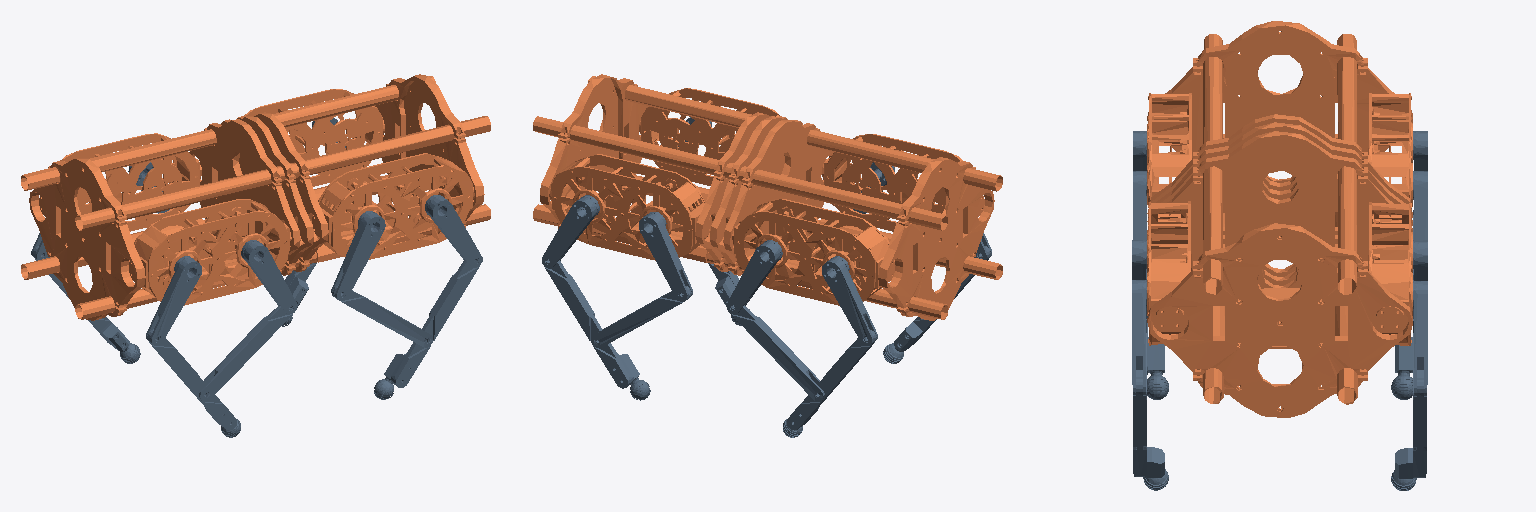
URDF robot description (quadson):
<robot name="quadson" version="1.0">
  <joint name="bl_joint0" type="revolute">
    <limit lower="-3.14000" upper="3.14000" effort="0.00000" velocity="0.00000"/>
    <origin rpy="0.00000 1.57080 0.00000" xyz="-0.20768 0.09541 0.00215"/>
    <parent link="base_link"/>
    <child link="bl_link0"/>
    <axis xyz="0.00000 0.00000 1.00000"/>
  </joint>
  <joint name="bl_joint1" type="revolute">
    <limit lower="-3.14000" upper="3.14000" effort="0.00000" velocity="0.00000"/>
    <origin rpy="-1.57080 -1.57080 0.00000" xyz="0.00040 0.01862 0.05458"/>
    <parent link="bl_link0"/>
    <child link="bl_link1"/>
    <axis xyz="0.00000 0.00000 1.00000"/>
  </joint>
  <joint name="bl_joint2" type="revolute">
    <limit lower="-3.14000" upper="3.14000" effort="0.00000" velocity="0.00000"/>
    <origin rpy="-0.00000 -0.00000 -0.00000" xyz="-0.04179 0.06838 0.00778"/>
    <parent link="bl_link1"/>
    <child link="bl_link2"/>
    <axis xyz="0.00000 0.00000 1.00000"/>
  </joint>
  <joint name="bl_joint3" type="revolute">
    <limit lower="-3.14000" upper="3.14000" effort="0.00000" velocity="0.00000"/>
    <origin rpy="-0.00000 0.00000 -0.00000" xyz="0.05995 0.08004 -0.00055"/>
    <parent link="bl_link2"/>
    <child link="bl_link3"/>
    <axis xyz="0.00000 0.00000 1.00000"/>
  </joint>
  <joint name="bl_joint4" type="revolute">
    <limit lower="-3.14000" upper="3.14000" effort="0.00000" velocity="0.00000"/>
    <origin rpy="-0.00000 0.00000 0.00000" xyz="0.10334 -0.07887 0.00054"/>
    <parent link="bl_link3"/>
    <child link="bl_link4"/>
    <axis xyz="0.00000 0.00000 1.00000"/>
  </joint>
  <joint name="br_joint0" type="revolute">
    <limit lower="-3.14000" upper="3.14000" effort="0.00000" velocity="0.00000"/>
    <origin rpy="0.00000 1.57080 0.00000" xyz="-0.20768 -0.09459 0.00215"/>
    <parent link="base_link"/>
    <child link="br_link0"/>
    <axis xyz="0.00000 0.00000 1.00000"/>
  </joint>
  <joint name="br_joint1" type="revolute">
    <limit lower="-3.14000" upper="3.14000" effort="0.00000" velocity="0.00000"/>
    <origin rpy="1.57080 -1.57080 -0.00000" xyz="0.00040 -0.01862 0.05458"/>
    <parent link="br_link0"/>
    <child link="br_link1"/>
    <axis xyz="0.00000 0.00000 1.00000"/>
  </joint>
  <joint name="br_joint2" type="revolute">
    <limit lower="-3.14000" upper="3.14000" effort="0.00000" velocity="0.00000"/>
    <origin rpy="0.00000 0.00000 -0.00000" xyz="-0.04173 -0.06842 0.00768"/>
    <parent link="br_link1"/>
    <child link="br_link2"/>
    <axis xyz="0.00000 0.00000 1.00000"/>
  </joint>
  <joint name="br_joint3" type="revolute">
    <limit lower="-3.14000" upper="3.14000" effort="0.00000" velocity="0.00000"/>
    <origin rpy="0.00000 0.00000 -0.00000" xyz="0.05988 -0.08000 -0.00045"/>
    <parent link="br_link2"/>
    <child link="br_link3"/>
    <axis xyz="0.00000 0.00000 1.00000"/>
  </joint>
  <joint name="br_joint4" type="revolute">
    <limit lower="-3.14000" upper="3.14000" effort="0.00000" velocity="0.00000"/>
    <origin rpy="0.00000 0.00000 -0.00000" xyz="0.10341 0.07891 0.00044"/>
    <parent link="br_link3"/>
    <child link="br_link4"/>
    <axis xyz="0.00000 0.00000 1.00000"/>
  </joint>
  <joint name="fl_joint0" type="revolute">
    <limit lower="-3.14000" upper="3.14000" effort="0.00000" velocity="0.00000"/>
    <origin rpy="0.00000 -1.57080 0.00000" xyz="0.20740 0.09541 0.00215"/>
    <parent link="base_link"/>
    <child link="fl_link0"/>
    <axis xyz="0.00000 0.00000 1.00000"/>
  </joint>
  <joint name="fl_joint1" type="revolute">
    <limit lower="-3.14000" upper="3.14000" effort="0.00000" velocity="0.00000"/>
    <origin rpy="-1.57080 1.57080 -0.00000" xyz="-0.00040 0.01862 0.05430"/>
    <parent link="fl_link0"/>
    <child link="fl_link1"/>
    <axis xyz="0.00000 0.00000 1.00000"/>
  </joint>
  <joint name="fl_joint2" type="revolute">
    <limit lower="-3.14000" upper="3.14000" effort="0.00000" velocity="0.00000"/>
    <origin rpy="-0.00000 -0.00000 -0.00000" xyz="0.04173 0.06842 0.00768"/>
    <parent link="fl_link1"/>
    <child link="fl_link2"/>
    <axis xyz="0.00000 0.00000 1.00000"/>
  </joint>
  <joint name="fl_joint3" type="revolute">
    <limit lower="-3.14000" upper="3.14000" effort="0.00000" velocity="0.00000"/>
    <origin rpy="-0.00000 0.00000 -0.00000" xyz="-0.05988 0.08000 -0.00045"/>
    <parent link="fl_link2"/>
    <child link="fl_link3"/>
    <axis xyz="0.00000 0.00000 1.00000"/>
  </joint>
  <joint name="fl_joint4" type="revolute">
    <limit lower="-3.14000" upper="3.14000" effort="0.00000" velocity="0.00000"/>
    <origin rpy="-0.00000 -0.00000 0.00000" xyz="-0.10334 -0.07887 0.00054"/>
    <parent link="fl_link3"/>
    <child link="fl_link4"/>
    <axis xyz="0.00000 0.00000 1.00000"/>
  </joint>
  <joint name="fl_joint5" type="revolute">
    <limit lower="-3.14000" upper="3.14000" effort="0.00000" velocity="0.00000"/>
    <origin rpy="-1.57080 1.57080 0.00000" xyz="-0.00040 0.01862 0.13630"/>
    <parent link="fl_link0"/>
    <child link="fl_link4.dummy"/>
    <axis xyz="0.00000 0.00000 1.00000"/>
  </joint>
  <joint name="fr_joint0" type="revolute">
    <limit lower="-3.14000" upper="3.14000" effort="0.00000" velocity="0.00000"/>
    <origin rpy="0.00000 -1.57080 0.00000" xyz="0.20740 -0.09459 0.00215"/>
    <parent link="base_link"/>
    <child link="fr_link0"/>
    <axis xyz="0.00000 0.00000 1.00000"/>
  </joint>
  <joint name="fr_joint1" type="revolute">
    <limit lower="-3.14000" upper="3.14000" effort="0.00000" velocity="0.00000"/>
    <origin rpy="1.57080 1.57080 0.00000" xyz="0.00039 -0.01915 0.05430"/>
    <parent link="fr_link0"/>
    <child link="fr_link1"/>
    <axis xyz="0.00000 0.00000 1.00000"/>
  </joint>
  <joint name="fr_joint2" type="revolute">
    <limit lower="-3.14000" upper="3.14000" effort="0.00000" velocity="0.00000"/>
    <origin rpy="0.00000 0.00000 0.00000" xyz="0.04179 -0.06838 0.00778"/>
    <parent link="fr_link1"/>
    <child link="fr_link2"/>
    <axis xyz="0.00000 0.00000 1.00000"/>
  </joint>
  <joint name="fr_joint3" type="revolute">
    <limit lower="-3.14000" upper="3.14000" effort="0.00000" velocity="0.00000"/>
    <origin rpy="0.00000 0.00000 -0.00000" xyz="-0.05995 -0.08004 -0.00055"/>
    <parent link="fr_link2"/>
    <child link="fr_link3"/>
    <axis xyz="0.00000 0.00000 1.00000"/>
  </joint>
  <joint name="fr_joint4" type="revolute">
    <limit lower="-3.14000" upper="3.14000" effort="0.00000" velocity="0.00000"/>
    <origin rpy="0.00000 0.00000 -0.00000" xyz="-0.10341 0.07891 0.00044"/>
    <parent link="fr_link3"/>
    <child link="fr_link4"/>
    <axis xyz="0.00000 0.00000 1.00000"/>
  </joint>
  <link name="base_link">
    <inertial>
      <inertia ixx="0.00472" ixy="0.00000" ixz="0.00000" iyy="0.02855" iyz="-0.00000" izz="0.02916"/>
      <origin rpy="0.00000 0.00000 0.00000" xyz="-0.00001 0.00040 -0.00279"/>
      <mass value="1.50000"/>
    </inertial>
    <visual name="base_link.visual">
      <origin rpy="0.00000 0.00000 0.00000" xyz="0.00000 0.00000 0.00000"/>
      <material name="Primary"/>
      <geometry>
        <mesh filename="../meshes/dae/base_link.dae" scale="1.00000 1.00000 1.00000"/>
      </geometry>
    </visual>
  </link>
  <link name="bl_link0">
    <inertial>
      <inertia ixx="0.00020" ixy="-0.00000" ixz="0.00001" iyy="0.00118" iyz="-0.00000" izz="0.00107"/>
      <origin rpy="0.00000 0.00000 0.00000" xyz="-0.00032 -0.00122 0.09509"/>
      <mass value="0.40000"/>
    </inertial>
    <visual name="bl_link0.visual">
      <origin rpy="-0.00000 -1.57080 0.00000" xyz="-0.00000 -0.00000 -0.00000"/>
      <material name="Primary"/>
      <geometry>
        <mesh filename="../meshes/dae/bl_link0.dae" scale="1.00000 1.00000 1.00000"/>
      </geometry>
    </visual>
  </link>
  <link name="bl_link1">
    <inertial>
      <inertia ixx="0.00012" ixy="0.00000" ixz="-0.00007" iyy="0.00016" iyz="0.00001" izz="0.00005"/>
      <origin rpy="0.00000 0.00000 0.00000" xyz="-0.01519 0.02472 0.00644"/>
      <mass value="0.20000"/>
    </inertial>
    <visual name="bl_link1.visual">
      <origin rpy="1.57080 0.00000 -0.00000" xyz="0.00000 0.00000 -0.00000"/>
      <material name="Grey"/>
      <geometry>
        <mesh filename="../meshes/dae/bl_link1.dae" scale="1.00000 1.00000 1.00000"/>
      </geometry>
    </visual>
  </link>
  <link name="bl_link2">
    <inertial>
      <inertia ixx="0.00062" ixy="0.00006" ixz="0.00045" iyy="0.00095" iyz="-0.00008" izz="0.00036"/>
      <origin rpy="0.00000 0.00000 0.00000" xyz="0.05980 0.08004 -0.00440"/>
      <mass value="0.20000"/>
    </inertial>
    <visual name="bl_link2.visual">
      <origin rpy="1.57080 0.00000 0.00000" xyz="-0.00000 0.00000 0.00000"/>
      <material name="Grey"/>
      <geometry>
        <mesh filename="../meshes/dae/bl_link2.dae" scale="1.00000 1.00000 1.00000"/>
      </geometry>
    </visual>
  </link>
  <link name="bl_link3">
    <inertial>
      <inertia ixx="0.00012" ixy="-0.00000" ixz="-0.00015" iyy="0.00031" iyz="-0.00000" izz="0.00020"/>
      <origin rpy="0.00000 0.00000 0.00000" xyz="0.05213 -0.03967 0.00027"/>
      <mass value="0.20000"/>
    </inertial>
    <visual name="bl_link3.visual">
      <origin rpy="1.57080 -0.00000 0.00000" xyz="0.00000 -0.00000 -0.00000"/>
      <material name="Grey"/>
      <geometry>
        <mesh filename="../meshes/dae/bl_link3.dae" scale="1.00000 1.00000 1.00000"/>
      </geometry>
    </visual>
  </link>
  <link name="bl_link4">
    <inertial>
      <inertia ixx="0.00012" ixy="-0.00000" ixz="0.00006" iyy="0.00016" iyz="0.00001" izz="0.00005"/>
      <origin rpy="0.00000 0.00000 0.00000" xyz="-0.02534 -0.04440 -0.00134"/>
      <mass value="0.20000"/>
    </inertial>
    <visual name="bl_link4.visual">
      <origin rpy="1.57080 -0.00000 0.00000" xyz="-0.03950 -0.06955 -0.00778"/>
      <material name="Grey"/>
      <geometry>
        <mesh filename="../meshes/dae/bl_link4.dae" scale="1.00000 1.00000 1.00000"/>
      </geometry>
    </visual>
  </link>
  <link name="br_link0">
    <inertial>
      <inertia ixx="0.00020" ixy="0.00000" ixz="0.00001" iyy="0.00118" iyz="0.00000" izz="0.00107"/>
      <origin rpy="0.00000 0.00000 0.00000" xyz="-0.00032 0.00122 0.09509"/>
      <mass value="0.40000"/>
    </inertial>
    <visual name="br_link0.visual">
      <origin rpy="-0.00000 -1.57080 0.00000" xyz="-0.00000 0.00000 -0.00000"/>
      <material name="Primary"/>
      <geometry>
        <mesh filename="../meshes/dae/br_link0.dae" scale="1.00000 1.00000 1.00000"/>
      </geometry>
    </visual>
  </link>
  <link name="br_link1">
    <inertial>
      <inertia ixx="0.00012" ixy="-0.00000" ixz="-0.00007" iyy="0.00016" iyz="-0.00001" izz="0.00005"/>
      <origin rpy="0.00000 0.00000 0.00000" xyz="-0.01519 -0.02472 0.00644"/>
      <mass value="0.20000"/>
    </inertial>
    <visual name="br_link1.visual">
      <origin rpy="-1.57080 0.00000 0.00000" xyz="0.00000 -0.00000 -0.00000"/>
      <material name="Grey"/>
      <geometry>
        <mesh filename="../meshes/dae/br_link1.dae" scale="1.00000 1.00000 1.00000"/>
      </geometry>
    </visual>
  </link>
  <link name="br_link2">
    <inertial>
      <inertia ixx="0.00062" ixy="-0.00006" ixz="0.00045" iyy="0.00095" iyz="0.00008" izz="0.00036"/>
      <origin rpy="0.00000 0.00000 0.00000" xyz="0.05973 -0.08000 -0.00430"/>
      <mass value="0.20000"/>
    </inertial>
    <visual name="br_link2.visual">
      <origin rpy="-1.57080 -0.00000 0.00000" xyz="0.00000 0.00000 -0.00000"/>
      <material name="Grey"/>
      <geometry>
        <mesh filename="../meshes/dae/br_link2.dae" scale="1.00000 1.00000 1.00000"/>
      </geometry>
    </visual>
  </link>
  <link name="br_link3">
    <inertial>
      <inertia ixx="0.00012" ixy="0.00000" ixz="-0.00015" iyy="0.00031" iyz="0.00000" izz="0.00020"/>
      <origin rpy="0.00000 0.00000 0.00000" xyz="0.05213 0.03967 0.00027"/>
      <mass value="0.20000"/>
    </inertial>
    <visual name="br_link3.visual">
      <origin rpy="-1.57080 -0.00000 0.00000" xyz="0.00000 0.00000 -0.00000"/>
      <material name="Grey"/>
      <geometry>
        <mesh filename="../meshes/dae/br_link3.dae" scale="1.00000 1.00000 1.00000"/>
      </geometry>
    </visual>
  </link>
  <link name="br_link4">
    <inertial>
      <inertia ixx="0.00012" ixy="0.00000" ixz="0.00006" iyy="0.00016" iyz="-0.00001" izz="0.00005"/>
      <origin rpy="0.00000 0.00000 0.00000" xyz="-0.02541 0.04436 -0.00125"/>
      <mass value="0.20000"/>
    </inertial>
    <visual name="br_link4.visual">
      <origin rpy="-1.57080 -0.00000 0.00000" xyz="-0.03957 0.06951 -0.00768"/>
      <material name="Grey"/>
      <geometry>
        <mesh filename="../meshes/dae/br_link4.dae" scale="1.00000 1.00000 1.00000"/>
      </geometry>
    </visual>
  </link>
  <link name="fl_link0">
    <inertial>
      <inertia ixx="0.00020" ixy="0.00000" ixz="-0.00001" iyy="0.00118" iyz="-0.00000" izz="0.00107"/>
      <origin rpy="0.00000 0.00000 0.00000" xyz="0.00032 -0.00122 0.09481"/>
      <mass value="0.40000"/>
    </inertial>
    <visual name="fl_link0.visual">
      <origin rpy="0.00000 1.57080 0.00000" xyz="-0.00000 -0.00000 0.00000"/>
      <material name="Primary"/>
      <geometry>
        <mesh filename="../meshes/dae/fl_link0.dae" scale="1.00000 1.00000 1.00000"/>
      </geometry>
    </visual>
  </link>
  <link name="fl_link1">
    <inertial>
      <inertia ixx="0.00012" ixy="-0.00000" ixz="0.00007" iyy="0.00016" iyz="0.00001" izz="0.00005"/>
      <origin rpy="0.00000 0.00000 0.00000" xyz="0.01519 0.02472 0.00644"/>
      <mass value="0.20000"/>
    </inertial>
    <visual name="fl_link1.visual">
      <origin rpy="1.57080 -0.00000 0.00000" xyz="0.00000 0.00000 -0.00000"/>
      <material name="Grey"/>
      <geometry>
        <mesh filename="../meshes/dae/fl_link1.dae" scale="1.00000 1.00000 1.00000"/>
      </geometry>
    </visual>
  </link>
  <link name="fl_link2">
    <inertial>
      <inertia ixx="0.00062" ixy="-0.00006" ixz="-0.00045" iyy="0.00095" iyz="-0.00008" izz="0.00036"/>
      <origin rpy="0.00000 0.00000 0.00000" xyz="-0.05973 0.08000 -0.00430"/>
      <mass value="0.20000"/>
    </inertial>
    <visual name="fl_link2.visual">
      <origin rpy="1.57080 0.00000 0.00000" xyz="-0.00000 0.00000 0.00000"/>
      <material name="Grey"/>
      <geometry>
        <mesh filename="../meshes/dae/fl_link2.dae" scale="1.00000 1.00000 1.00000"/>
      </geometry>
    </visual>
  </link>
  <link name="fl_link3">
    <inertial>
      <inertia ixx="0.00012" ixy="0.00000" ixz="0.00015" iyy="0.00031" iyz="-0.00000" izz="0.00020"/>
      <origin rpy="0.00000 0.00000 0.00000" xyz="-0.05213 -0.03967 0.00027"/>
      <mass value="0.20000"/>
    </inertial>
    <visual name="fl_link3.visual">
      <origin rpy="1.57080 -0.00000 -0.00000" xyz="-0.00000 -0.00000 -0.00000"/>
      <material name="Grey"/>
      <geometry>
        <mesh filename="../meshes/dae/fl_link3.dae" scale="1.00000 1.00000 1.00000"/>
      </geometry>
    </visual>
  </link>
  <link name="fl_link4">
    <inertial>
      <inertia ixx="0.00012" ixy="0.00000" ixz="-0.00006" iyy="0.00016" iyz="0.00001" izz="0.00005"/>
      <origin rpy="0.00000 0.00000 0.00000" xyz="0.02534 -0.04440 -0.00134"/>
      <mass value="0.20000"/>
    </inertial>
    <visual name="fl_link4.visual">
      <origin rpy="1.57080 -0.00000 -0.00000" xyz="0.03950 -0.06955 -0.00778"/>
      <material name="Grey"/>
      <geometry>
        <mesh filename="../meshes/dae/fl_link4.dae" scale="1.00000 1.00000 1.00000"/>
      </geometry>
    </visual>
  </link>
  <link name="fl_link4.dummy">
    <visual name="fl_link4.visual.dummy">
      <origin rpy="1.57080 0.00000 -0.00000" xyz="0.00000 -0.00000 -0.00000"/>
      <material name="Grey"/>
      <geometry>
        <mesh filename="../meshes/dae/fl_link4.dummy.dae" scale="1.00000 1.00000 1.00000"/>
      </geometry>
    </visual>
  </link>
  <link name="fr_link0">
    <inertial>
      <inertia ixx="0.00020" ixy="-0.00000" ixz="-0.00001" iyy="0.00118" iyz="0.00000" izz="0.00107"/>
      <origin rpy="0.00000 0.00000 0.00000" xyz="0.00111 0.00069 0.09481"/>
      <mass value="0.40000"/>
    </inertial>
    <visual name="fr_link0.visual">
      <origin rpy="-0.00000 1.57080 -0.00000" xyz="0.00000 0.00000 -0.00000"/>
      <material name="Primary"/>
      <geometry>
        <mesh filename="../meshes/dae/fr_link0.dae" scale="1.00000 1.00000 1.00000"/>
      </geometry>
    </visual>
  </link>
  <link name="fr_link1">
    <inertial>
      <inertia ixx="0.00012" ixy="0.00000" ixz="0.00007" iyy="0.00016" iyz="-0.00001" izz="0.00005"/>
      <origin rpy="0.00000 0.00000 0.00000" xyz="0.01519 -0.02472 0.00644"/>
      <mass value="0.20000"/>
    </inertial>
    <visual name="fr_link1.visual">
      <origin rpy="-1.57080 -0.00000 -0.00000" xyz="0.00000 0.00000 -0.00000"/>
      <material name="Grey"/>
      <geometry>
        <mesh filename="../meshes/dae/fr_link1.dae" scale="1.00000 1.00000 1.00000"/>
      </geometry>
    </visual>
  </link>
  <link name="fr_link2">
    <inertial>
      <inertia ixx="0.00062" ixy="0.00006" ixz="-0.00045" iyy="0.00095" iyz="0.00008" izz="0.00036"/>
      <origin rpy="0.00000 0.00000 0.00000" xyz="-0.05980 -0.08004 -0.00440"/>
      <mass value="0.20000"/>
    </inertial>
    <visual name="fr_link2.visual">
      <origin rpy="-1.57080 -0.00000 -0.00000" xyz="-0.00000 -0.00000 -0.00000"/>
      <material name="Grey"/>
      <geometry>
        <mesh filename="../meshes/dae/fr_link2.dae" scale="1.00000 1.00000 1.00000"/>
      </geometry>
    </visual>
  </link>
  <link name="fr_link3">
    <inertial>
      <inertia ixx="0.00012" ixy="-0.00000" ixz="0.00015" iyy="0.00031" iyz="0.00000" izz="0.00020"/>
      <origin rpy="0.00000 0.00000 0.00000" xyz="-0.05213 0.03967 0.00027"/>
      <mass value="0.20000"/>
    </inertial>
    <visual name="fr_link3.visual">
      <origin rpy="-1.57080 -0.00000 -0.00000" xyz="0.00000 -0.00000 0.00000"/>
      <material name="Grey"/>
      <geometry>
        <mesh filename="../meshes/dae/fr_link3.dae" scale="1.00000 1.00000 1.00000"/>
      </geometry>
    </visual>
  </link>
  <link name="fr_link4">
    <inertial>
      <inertia ixx="0.00012" ixy="-0.00000" ixz="-0.00006" iyy="0.00016" iyz="-0.00001" izz="0.00005"/>
      <origin rpy="0.00000 0.00000 0.00000" xyz="0.02541 0.04436 -0.00125"/>
      <mass value="0.20000"/>
    </inertial>
    <visual name="fr_link4.000">
      <origin rpy="-1.57080 -0.00000 -0.00000" xyz="0.03966 0.06964 -0.00768"/>
      <material name="Grey"/>
      <geometry>
        <mesh filename="../meshes/dae/fr_link4.dae" scale="1.00000 1.00000 1.00000"/>
      </geometry>
    </visual>
  </link>
  <material name="Grey">
    <color rgba="0.39608 0.47059 0.54510 1.00000"/>
  </material>
  <material name="Primary">
    <color rgba="0.92941 0.56471 0.36471 1.00000"/>
  </material>
</robot>

--- What the picture shows (computed from the rendered views, not written in the file) ---
3 views of the same robot in one strip: view 1: azimuth 30°, elevation 25°; view 2: azimuth 150°, elevation 25°; view 3: azimuth 270°, elevation 25° (orthographic).
Model quadson with 22 links and 21 joints (21 revolute), rooted at base_link, posed every joint at zero.
Visible links, largest first — view 1: base_link, fr_link0, br_link0, bl_link0, fl_link0, fr_link2, br_link3, fr_link4, br_link1, br_link2, br_link4, fr_link1 (+3 smaller); view 2: base_link, fl_link0, bl_link0, br_link0, fr_link0, fl_link2, bl_link3, bl_link1, fl_link4.dummy, bl_link2, fl_link1, bl_link4 (+3 smaller); view 3: base_link, fr_link0, fl_link0, br_link0, bl_link0, fr_link2, fl_link2, fr_link1, fl_link1, bl_link2, br_link2, bl_link4 (+5 smaller).
Boxes of the visible links, x1,y1,x2,y2 form: base_link: [21, 74, 490, 320]; fr_link0: [312, 153, 474, 259]; br_link0: [129, 199, 291, 305]; bl_link0: [39, 133, 201, 231]; fl_link0: [244, 89, 384, 186]; fr_link2: [374, 259, 479, 399]; br_link3: [199, 305, 291, 401]; fr_link4: [331, 211, 385, 300]; br_link1: [146, 256, 201, 345]; br_link2: [147, 329, 240, 437]; br_link4: [241, 240, 297, 314]; fr_link1: [425, 195, 482, 267]; base_link: [533, 74, 1002, 320]; fl_link0: [549, 154, 711, 260]; bl_link0: [732, 199, 894, 305]; br_link0: [822, 134, 984, 231]; fr_link0: [639, 88, 779, 185]; fl_link2: [545, 259, 650, 400]; bl_link3: [732, 305, 824, 401]; bl_link1: [822, 256, 877, 345]; fl_link4.dummy: [639, 212, 692, 301]; bl_link2: [783, 330, 876, 437]; fl_link1: [542, 195, 599, 268]; bl_link4: [726, 240, 782, 314]; base_link: [1147, 21, 1412, 417]; fr_link0: [1147, 201, 1191, 345]; fl_link0: [1368, 202, 1412, 345]; br_link0: [1147, 93, 1191, 204]; bl_link0: [1368, 93, 1412, 206]; fr_link2: [1133, 377, 1168, 490]; fl_link2: [1391, 378, 1426, 490]; fr_link1: [1132, 280, 1146, 394]; fl_link1: [1413, 280, 1427, 395]; bl_link2: [1391, 210, 1413, 399]; br_link2: [1146, 319, 1168, 399]; bl_link4: [1413, 171, 1427, 240].
Size in the robot's own frame: 0.5 by 0.2564 by 0.306 metres.
22 mesh visuals loaded from 22 distinct referenced files (22 Collada DAE).